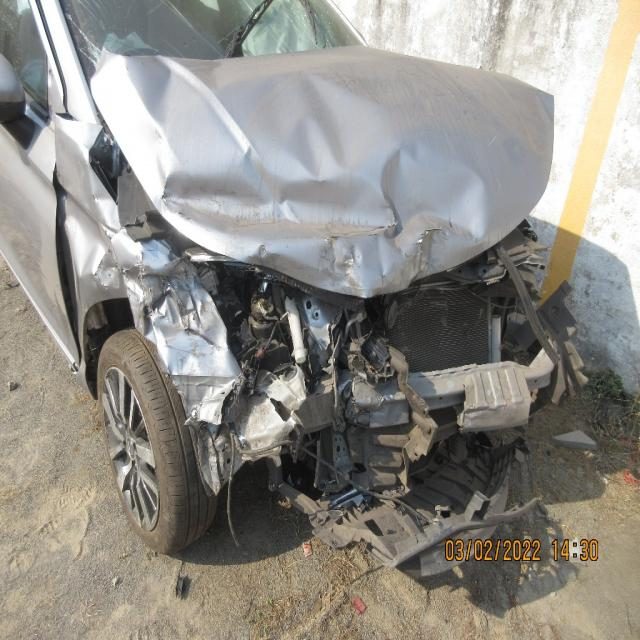damage: (118, 55, 496, 256), (171, 284, 544, 412), (54, 117, 108, 287), (130, 234, 205, 352)
